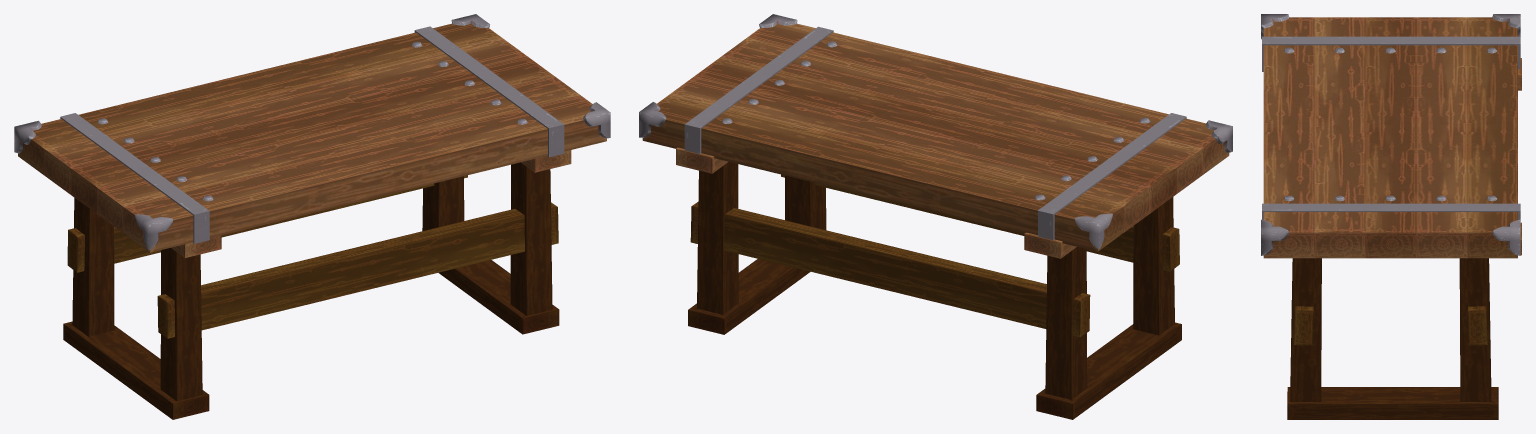
The model's file is Workbench.gltf.
The picture shows the model from 3 angles, left to right: view 1: azimuth 30°, elevation 25°; view 2: azimuth 150°, elevation 25°; view 3: azimuth 270°, elevation 25°; orthographic projection. The views are drawn at different scales.
Parts seen in each view (by area): view 1: Workbench; view 2: Workbench; view 3: Workbench.
Boxes of the visible parts, left/top/right/bottom form: Workbench: left=14, top=14, right=610, bottom=419; Workbench: left=639, top=14, right=1232, bottom=419; Workbench: left=1261, top=14, right=1521, bottom=419.
Bounding box in the file's own units: 2.02 × 0.8946 × 1.02.
2 materials, 2 textured.
